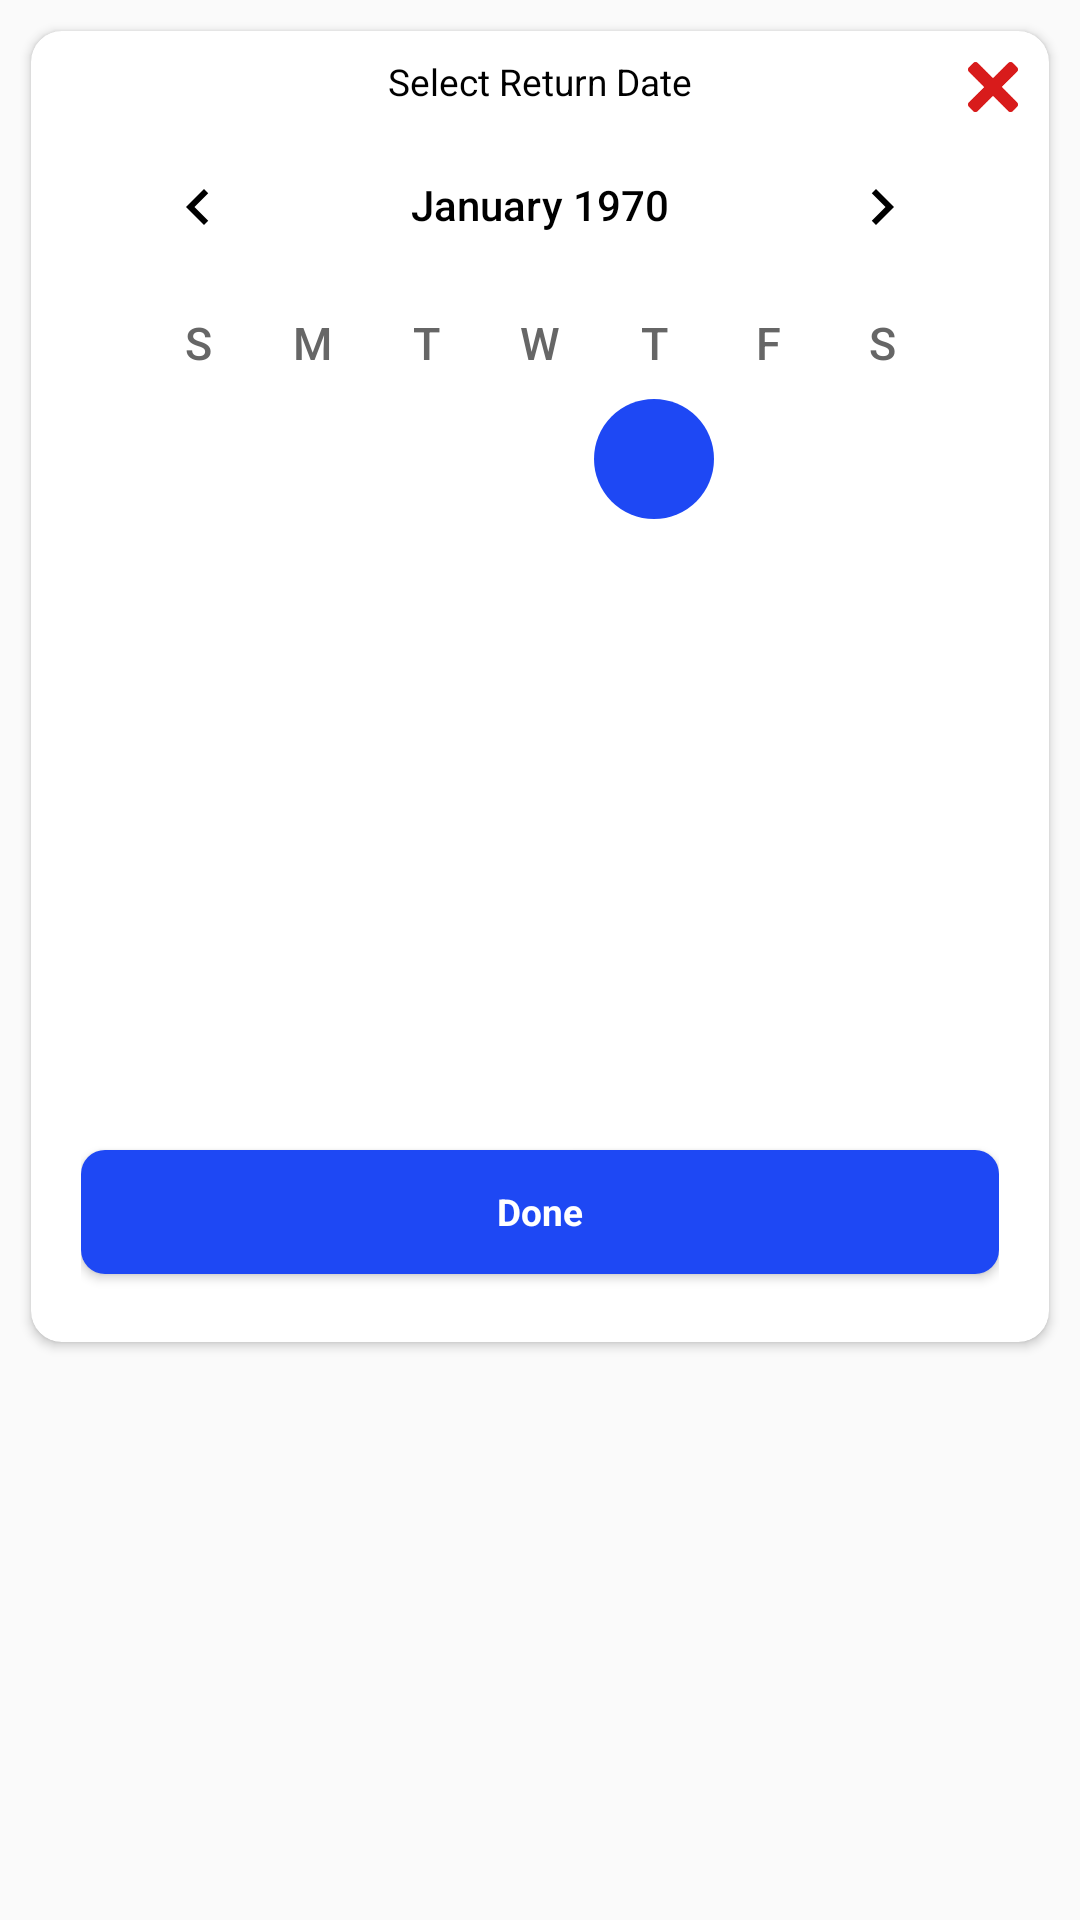

Icons on this 1080×1920 Android screen, each with its box as bbox=(x1, y1, x2, y2):
close: bbox=(968, 62, 1018, 112)
